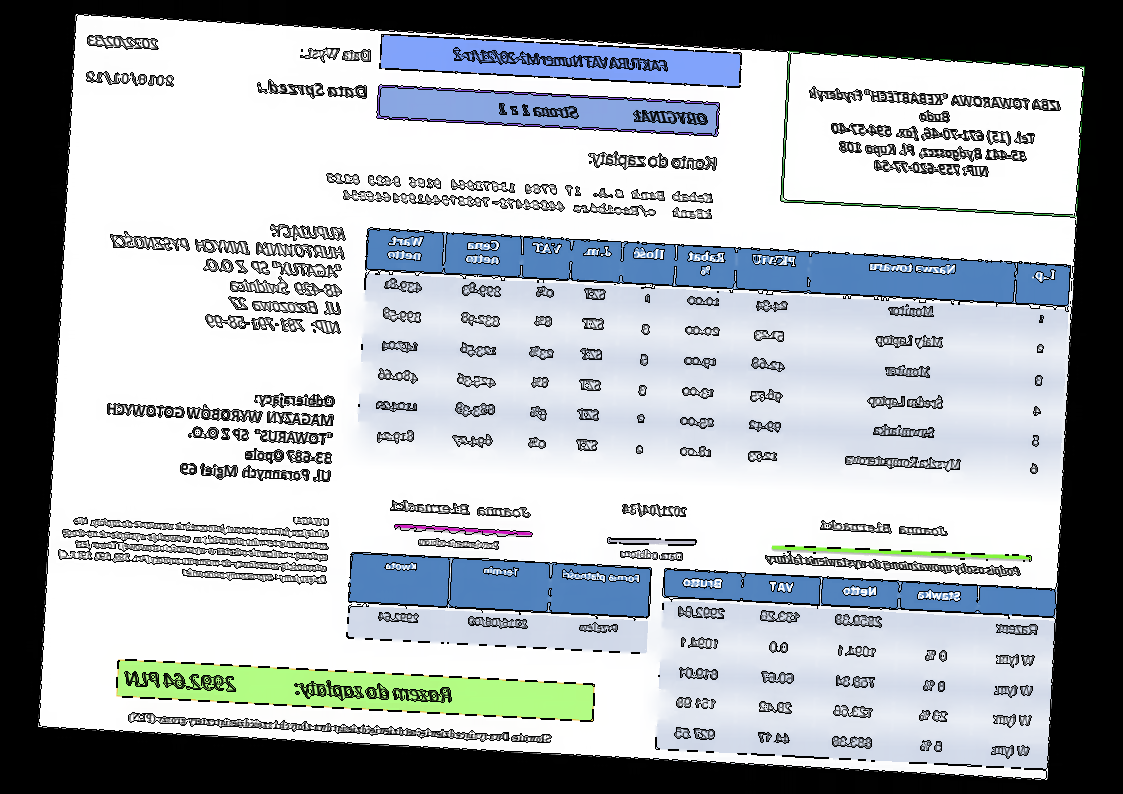Table: (355, 227, 1073, 490), (653, 567, 1057, 770), (346, 552, 652, 655)
TextBox: (104, 212, 348, 337), (803, 85, 1062, 184), (102, 381, 337, 487), (55, 500, 331, 587), (323, 170, 715, 223), (127, 710, 554, 747), (123, 668, 455, 709), (766, 550, 1023, 579), (451, 46, 670, 75), (495, 99, 710, 127), (586, 147, 719, 176), (389, 498, 533, 521), (257, 76, 369, 103), (819, 518, 949, 539), (84, 67, 177, 89), (84, 32, 163, 53), (620, 500, 690, 522), (299, 44, 374, 64), (417, 535, 500, 551), (620, 547, 685, 563)
